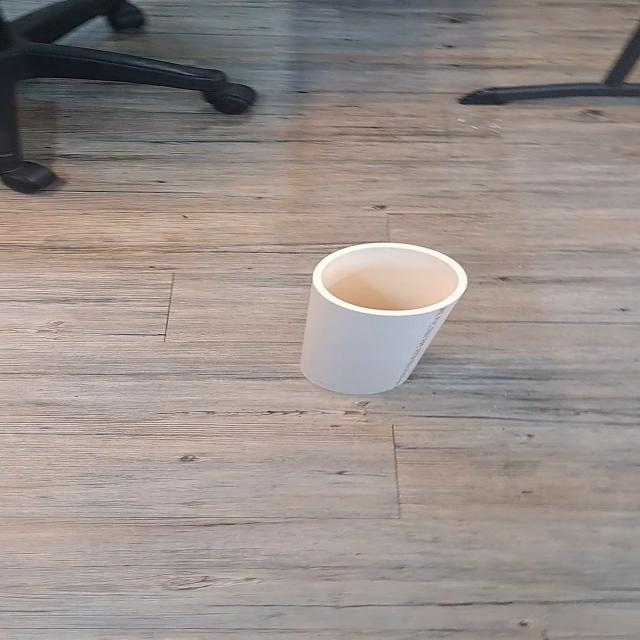CORAL: (297, 242, 475, 398)
